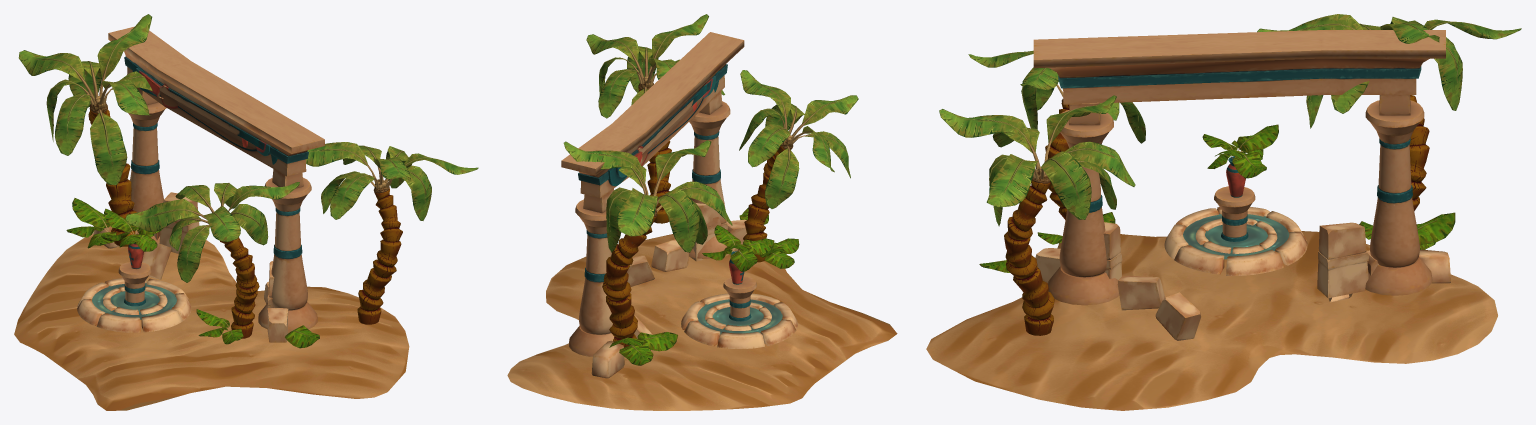
File: DesertOasis.fbx
The picture shows the model from 3 angles, left to right: view 1: azimuth 30°, elevation 25°; view 2: azimuth 150°, elevation 25°; view 3: azimuth 270°, elevation 25°; orthographic projection. The views are drawn at different scales.
Visible parts, largest first — view 1: Line002, Arch, Box034, Box035, Box036, Round Stone007, Box052, Water001, Box042, Object025, Stones001, Box051 (+3 smaller); view 2: Line002, Arch, Box034, Box035, Box036, Round Stone007, Box042, Box052, Water001, Object025, Stones001, Object023 (+5 smaller); view 3: Line002, Arch, Box036, Box034, Stones, Box035, Round Stone007, Box042, Water001, Stones001, Object027, Object025 (+6 smaller).
Part boxes in pixels (x1,y1,x2,y2): Line002: [14, 233, 409, 410]; Arch: [108, 26, 324, 332]; Box034: [18, 14, 152, 246]; Box035: [125, 182, 299, 338]; Box036: [306, 142, 478, 324]; Round Stone007: [77, 282, 191, 332]; Box052: [66, 198, 319, 348]; Water001: [92, 283, 176, 319]; Box042: [101, 208, 163, 251]; Object025: [118, 262, 151, 306]; Stones001: [267, 261, 288, 342]; Box051: [196, 309, 243, 344]; Line002: [507, 234, 897, 410]; Arch: [561, 32, 744, 356]; Box034: [563, 140, 732, 347]; Box035: [739, 70, 858, 262]; Box036: [586, 14, 724, 223]; Round Stone007: [700, 293, 797, 348]; Box042: [702, 225, 774, 271]; Box052: [609, 207, 768, 365]; Water001: [697, 299, 782, 334]; Object025: [723, 276, 756, 321]; Stones001: [690, 202, 746, 261]; Object023: [591, 340, 624, 378]; Line002: [926, 231, 1497, 410]; Arch: [1033, 30, 1445, 305]; Box036: [939, 95, 1135, 335]; Box034: [1257, 14, 1521, 210]; Stones: [1317, 222, 1378, 298]; Box035: [968, 50, 1145, 219]; Round Stone007: [1164, 207, 1306, 274]; Box042: [1202, 124, 1278, 178]; Water001: [1183, 214, 1289, 259]; Stones001: [1035, 222, 1122, 283]; Object027: [1155, 292, 1201, 340]; Object025: [1214, 186, 1255, 241].
Bounding box in the file's own units: 538 × 376 × 656.
